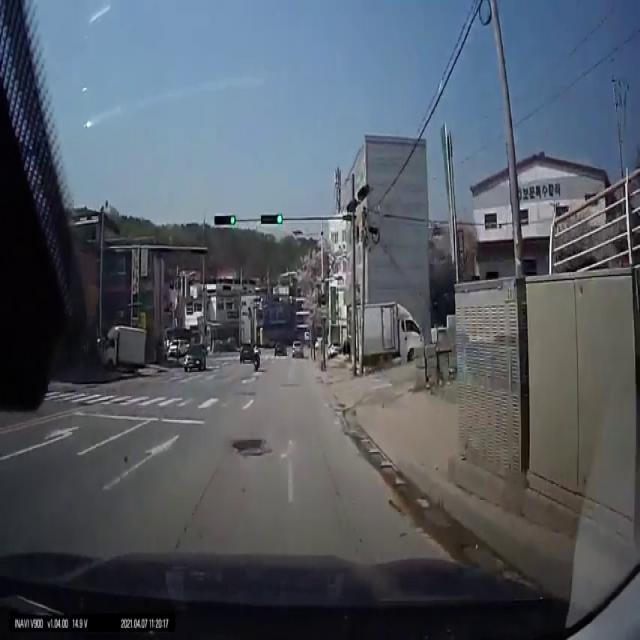Pothole: (232, 435, 266, 453)
